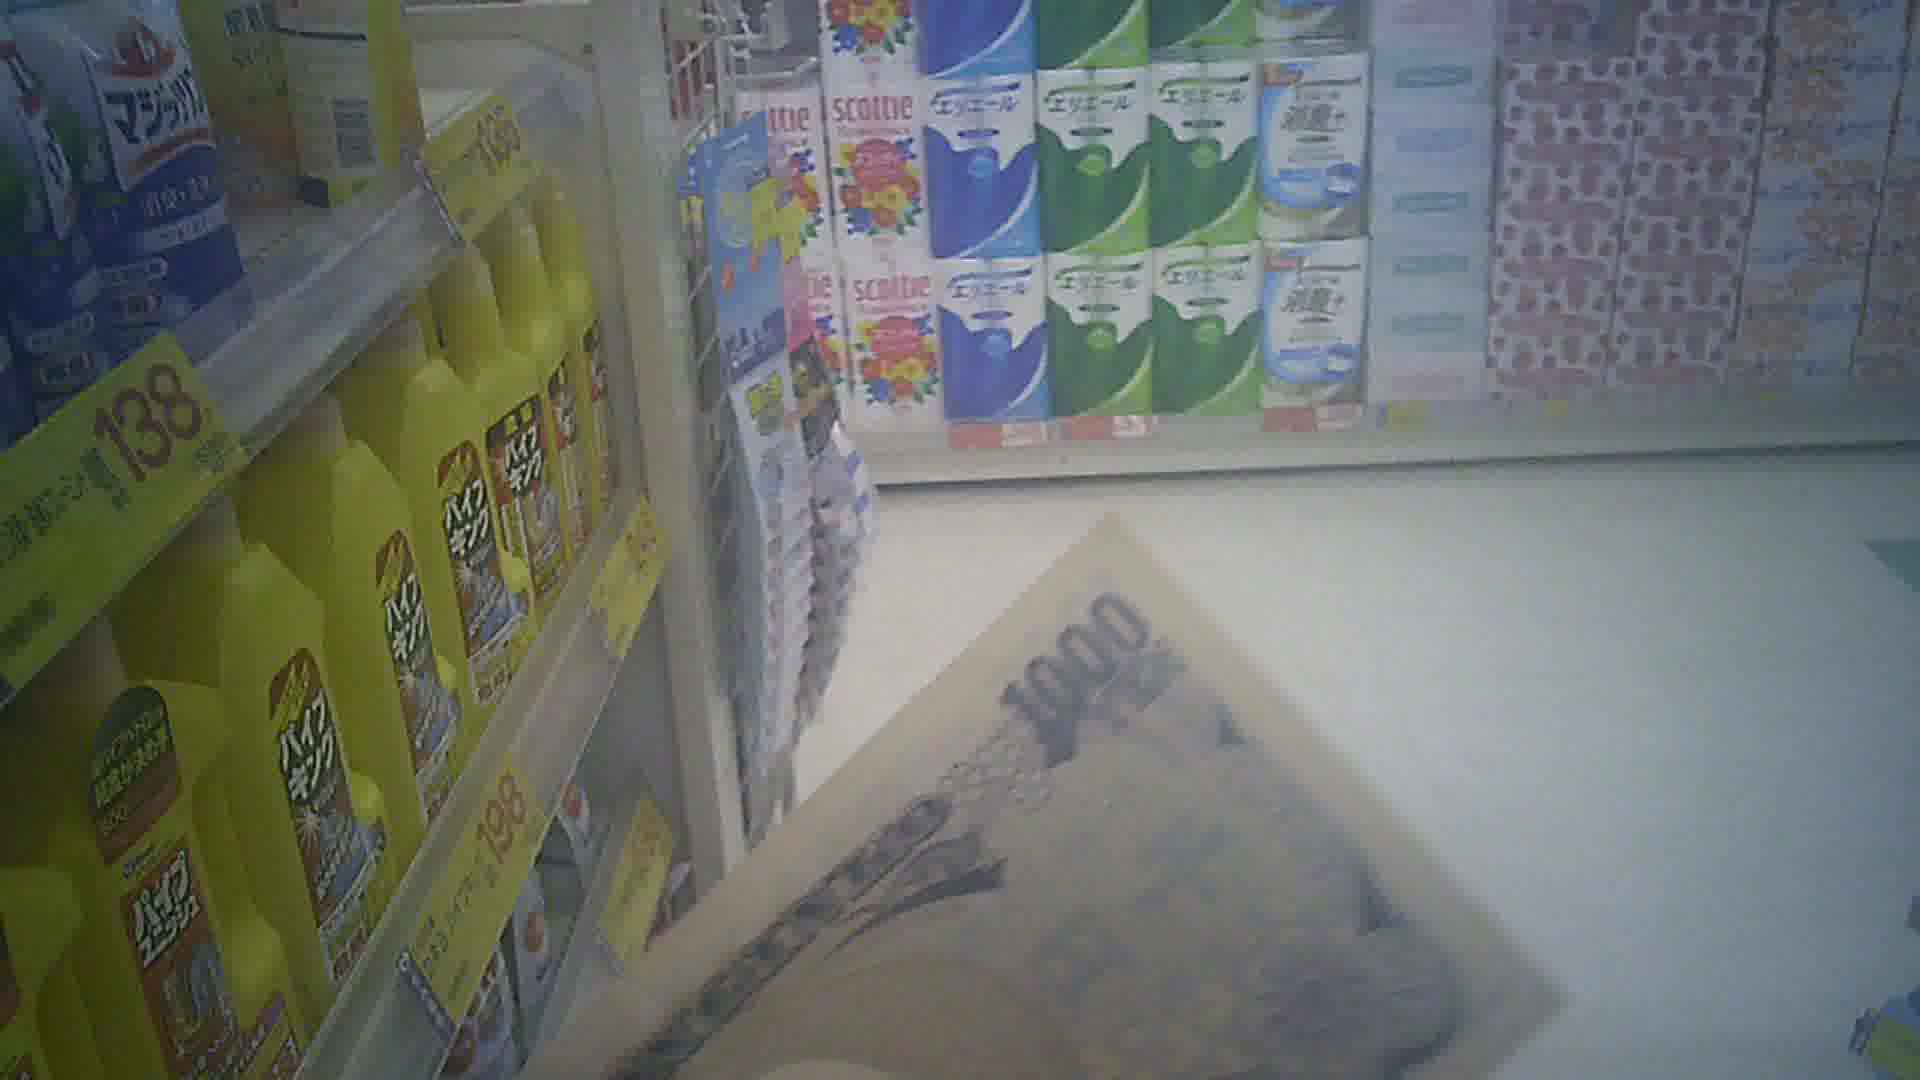1,000 Yen: (500, 520, 1522, 1079)
